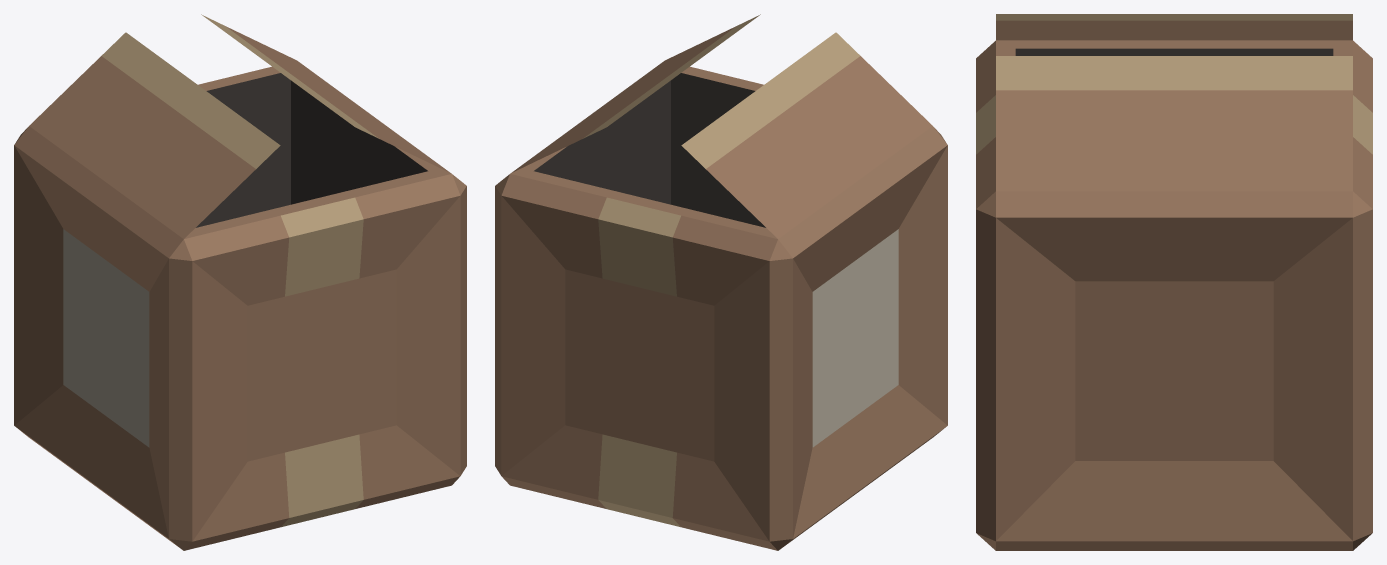
File: box-open.glb
3 views of the same model, side by side, from view 1: azimuth 30°, elevation 25°; view 2: azimuth 150°, elevation 25°; view 3: azimuth 270°, elevation 25° (orthographic). The views are drawn at different scales.
Size of the model in its own units: 0.25 by 0.3063 by 0.25.
